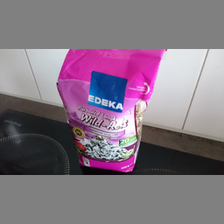rice: (56, 49, 169, 172)
